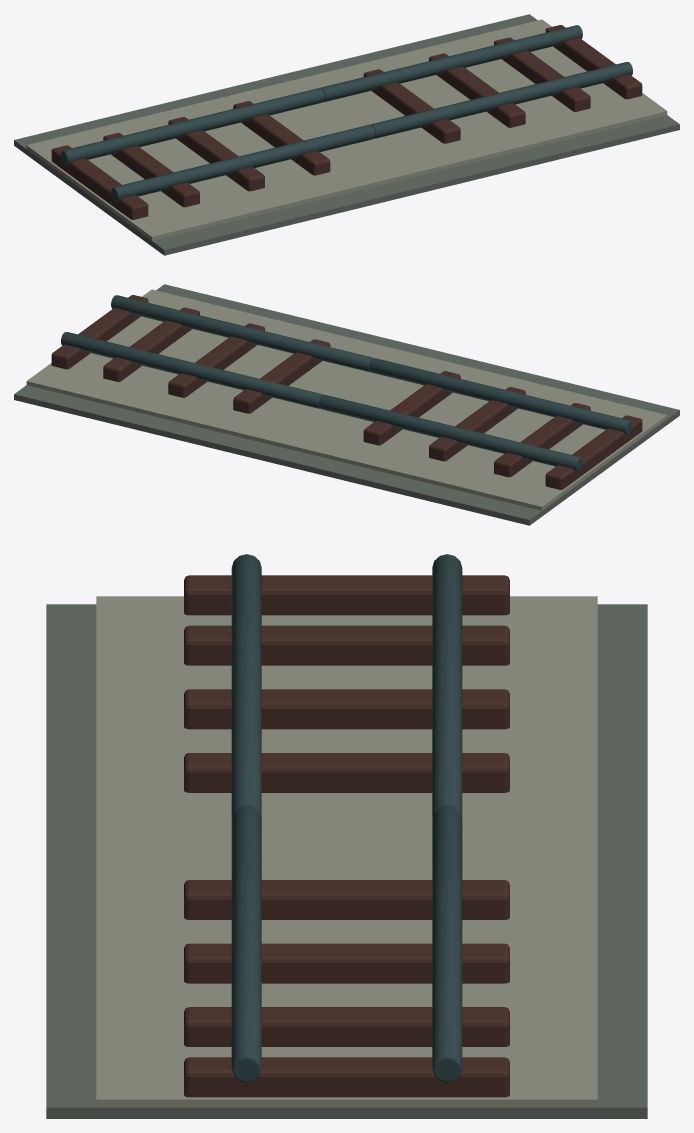
The model's file is tram_straight.glb.
3 views of the same model, one above another, from view 1: azimuth 30°, elevation 25°; view 2: azimuth 150°, elevation 25°; view 3: azimuth 270°, elevation 25° (orthographic). The views are drawn at different scales.
Parts seen in each view (by area): view 1: tram_straight · stone, tram_straight · metal, tram_straight · stone_dark, tram_straight · wood; view 2: tram_straight · stone, tram_straight · metal, tram_straight · stone_dark, tram_straight · wood; view 3: tram_straight · stone, tram_straight · wood, tram_straight · stone_dark, tram_straight · metal.
Part boxes in pixels (x1,y1,x2,y2): tram_straight · stone: (26, 19, 667, 240); tram_straight · metal: (61, 25, 632, 201); tram_straight · stone_dark: (14, 14, 679, 255); tram_straight · wood: (51, 25, 642, 219); tram_straight · stone: (26, 289, 667, 510); tram_straight · metal: (61, 295, 632, 471); tram_straight · stone_dark: (14, 284, 679, 525); tram_straight · wood: (51, 295, 642, 489); tram_straight · stone: (96, 596, 597, 1107); tram_straight · wood: (184, 575, 509, 1097); tram_straight · stone_dark: (46, 604, 647, 1118); tram_straight · metal: (231, 554, 462, 1082).
Size of the model in its own units: 0.95 by 0.055 by 0.48.
